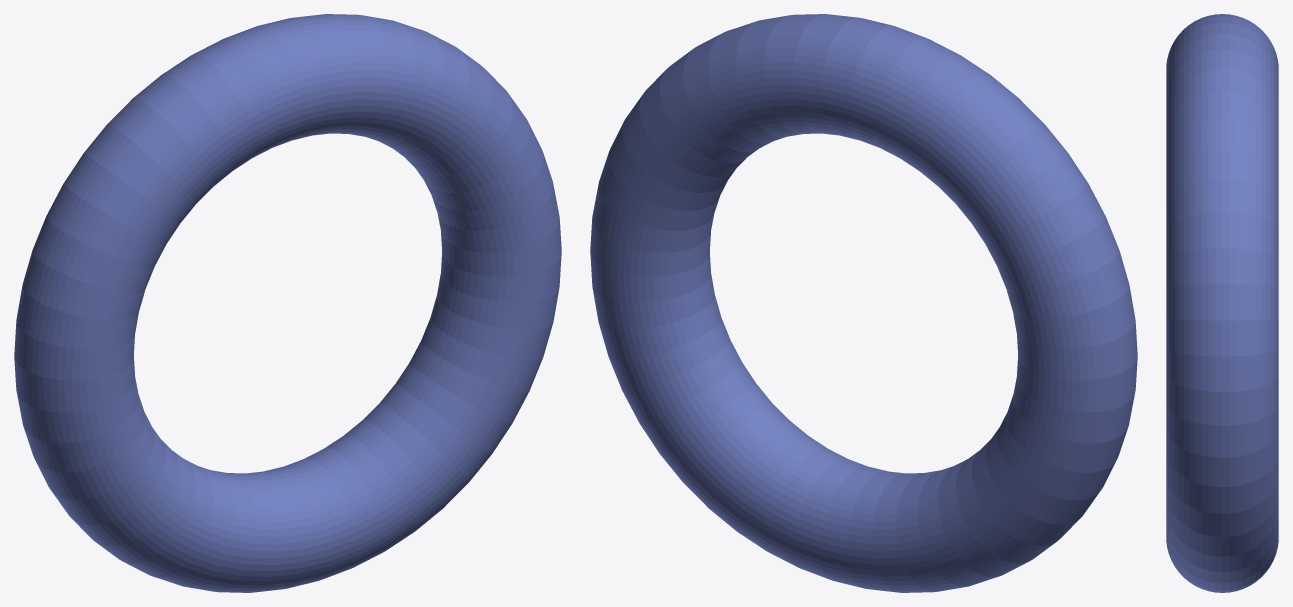
3 renders of one model, left to right at view 1: azimuth 30°, elevation 25°; view 2: azimuth 150°, elevation 25°; view 3: azimuth 270°, elevation 25°, orthographic. The views are drawn at different scales.
Visible parts, largest first — view 1: world; view 2: world; view 3: world.
Boxes of the visible parts, left/top/right/bottom form: world: left=14, top=14, right=561, bottom=592; world: left=590, top=14, right=1137, bottom=592; world: left=1166, top=14, right=1278, bottom=592.
Size of the model in its own units: 15.73 by 15.7 by 3.06.
